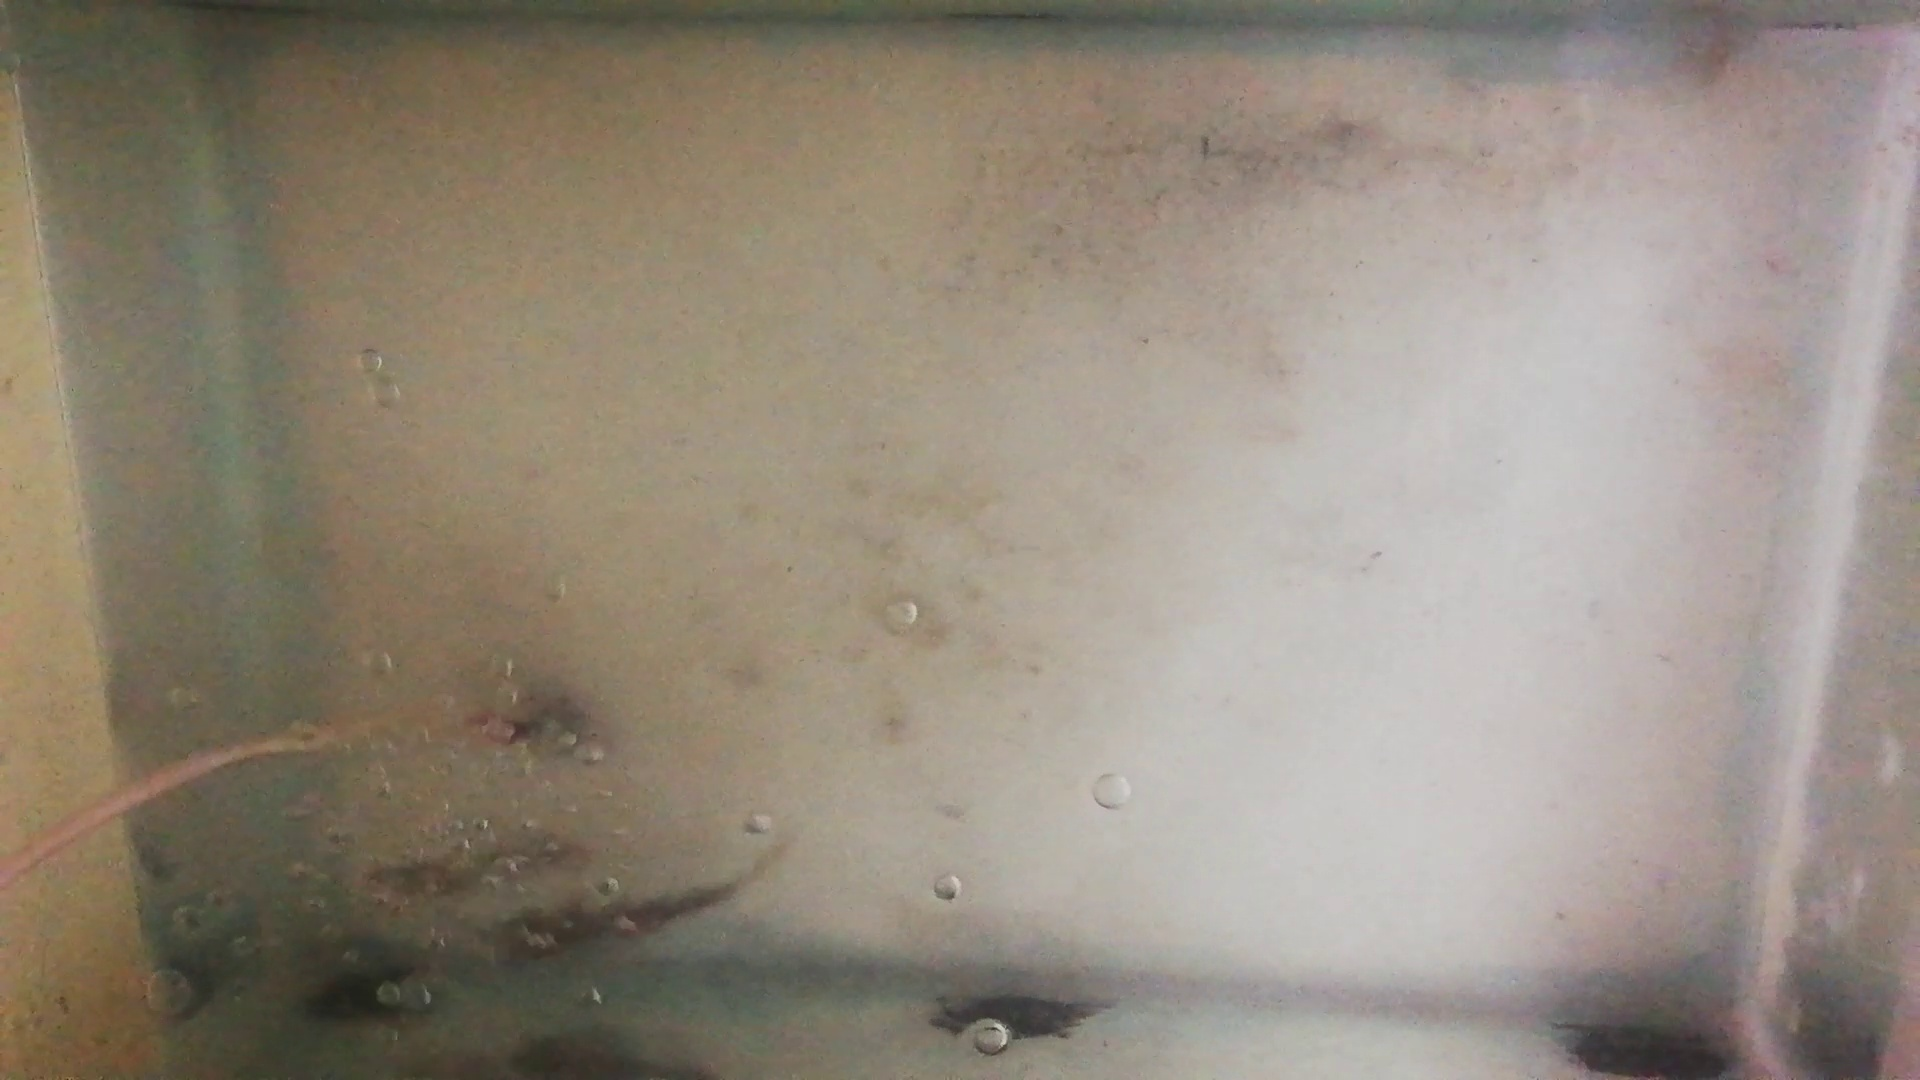fish: (491, 887, 733, 968), (373, 839, 558, 895)
